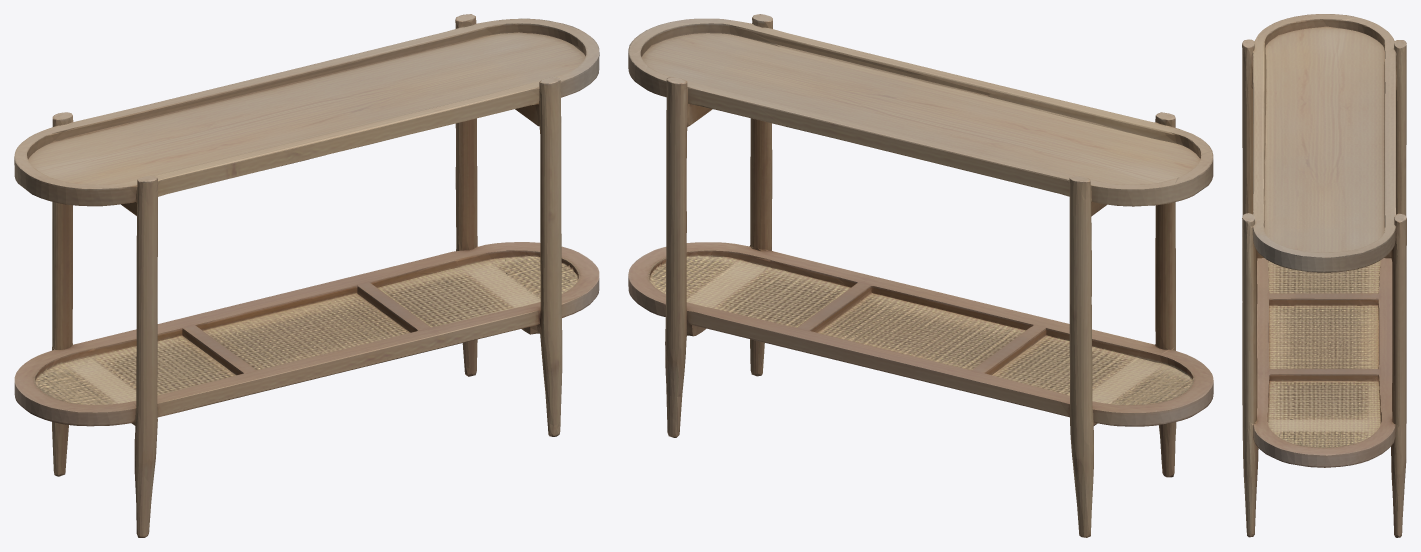
Rendered from CREDENZA BEJUCO NUEZ.glb.
The picture shows the model from 3 angles, left to right: view 1: azimuth 30°, elevation 25°; view 2: azimuth 150°, elevation 25°; view 3: azimuth 270°, elevation 25°; orthographic projection. The views are drawn at different scales.
Visible parts, largest first — view 1: world; view 2: world; view 3: world.
Part boxes in pixels (box(x1,y1,x2,y2)): world: box(14, 14, 599, 537); world: box(628, 14, 1213, 537); world: box(1242, 14, 1406, 537).
Bounding box in the file's own units: 1.4 × 0.85 × 0.4.
Materials: 1 (1 with a texture image).
